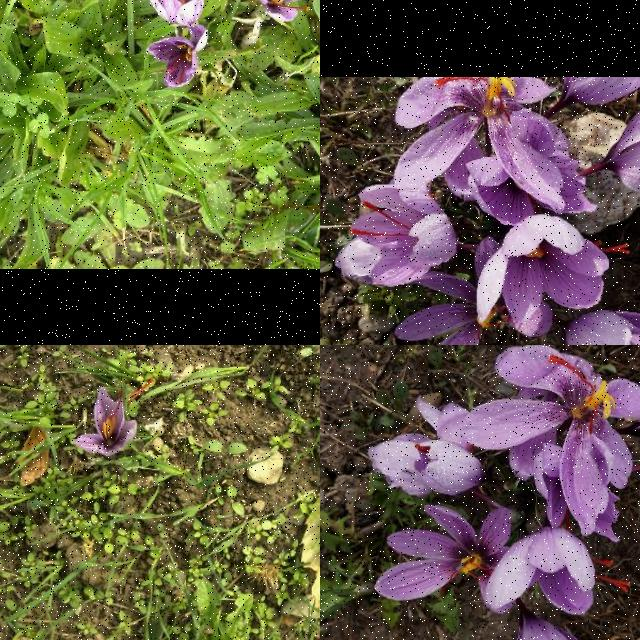flower: (477, 214, 631, 324), (482, 528, 632, 616), (348, 184, 458, 288), (71, 378, 155, 457), (146, 26, 208, 88), (611, 97, 640, 200), (564, 311, 640, 345), (513, 617, 608, 640), (562, 77, 640, 105), (245, 0, 320, 22), (147, 0, 205, 26)
overlap: (367, 345, 640, 615), (334, 77, 598, 345)
